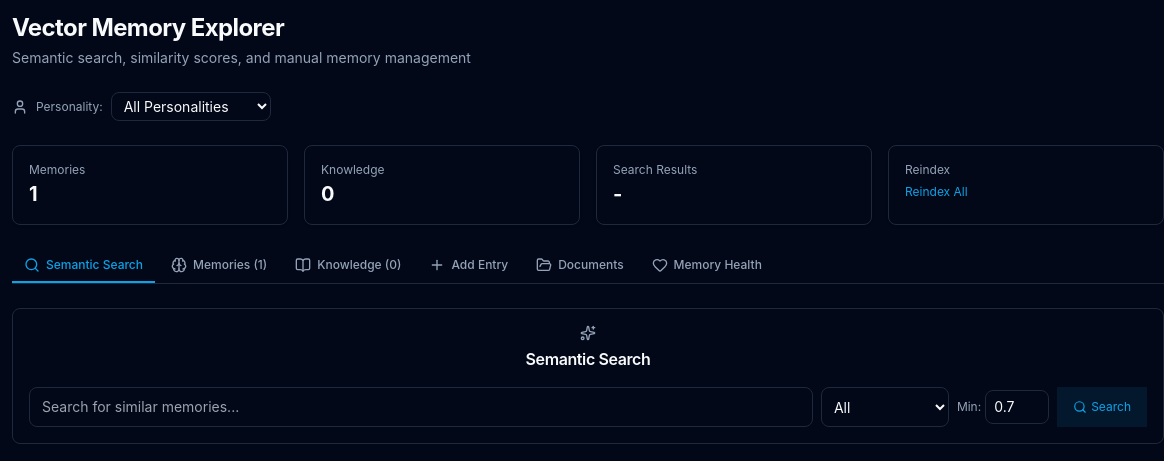
Scenario: VectorMemoryExplorerPage › switches to Memories tab and shows memory content
The image size is (1164, 461).
Click the button "Memories (1)" at (219, 266), box [159,249,279,283]
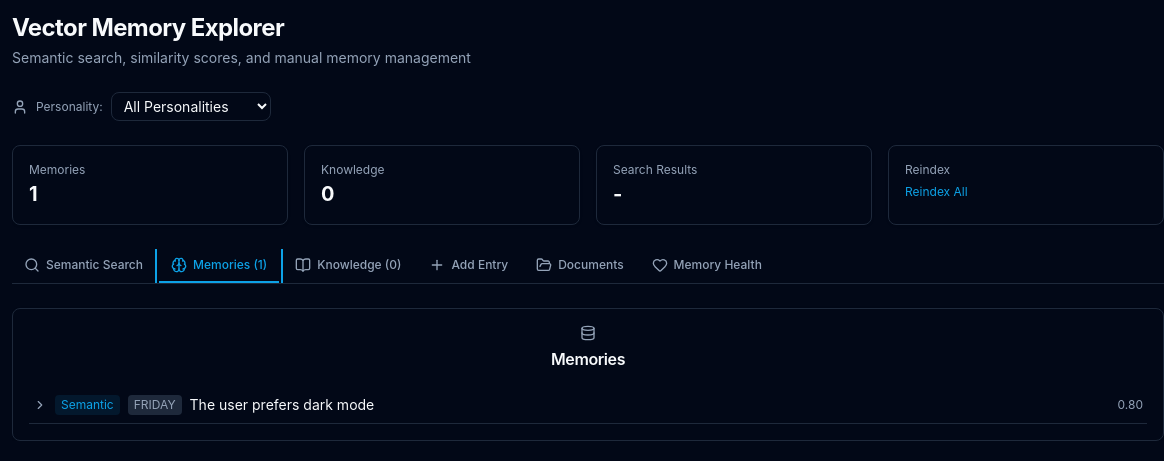
Now the text "The user prefers dark mode" is shown, box [190,396,374,413]
